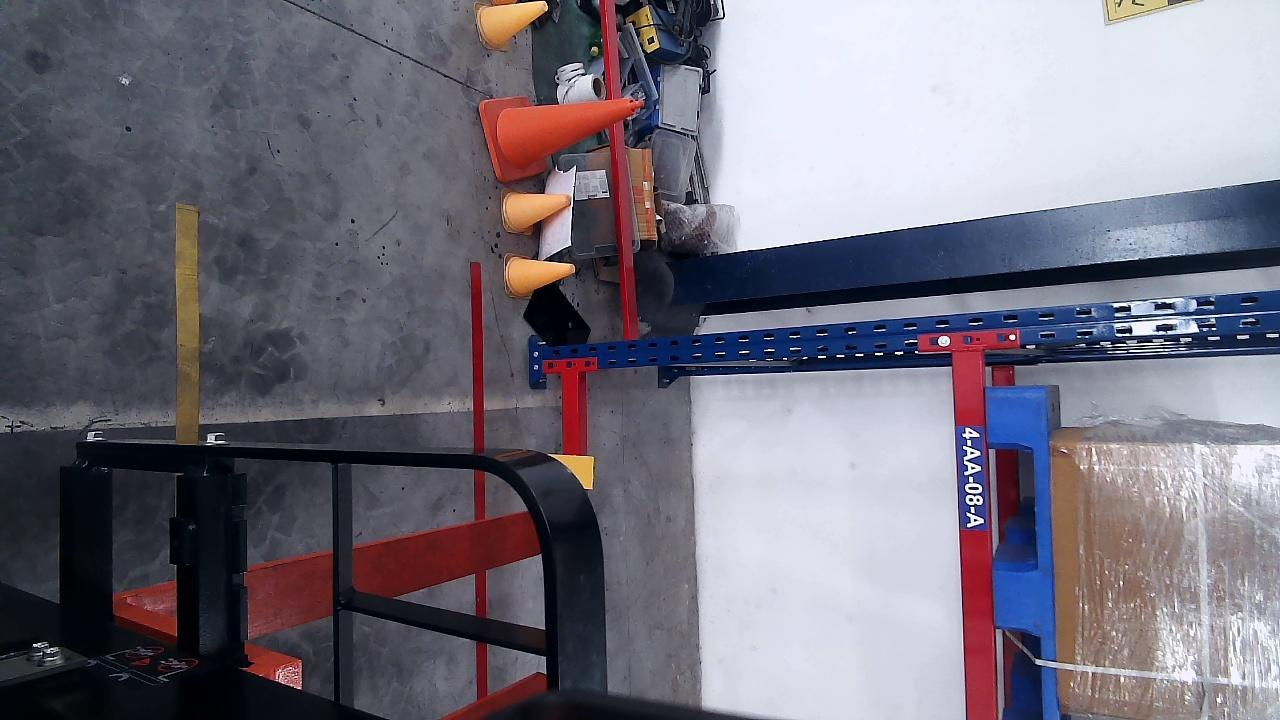h_rack: (952, 347, 999, 714), (562, 373, 580, 456)
red_line: (469, 260, 491, 701)
small_pallet: (985, 389, 1057, 720)
yellow_line: (174, 202, 202, 440)
